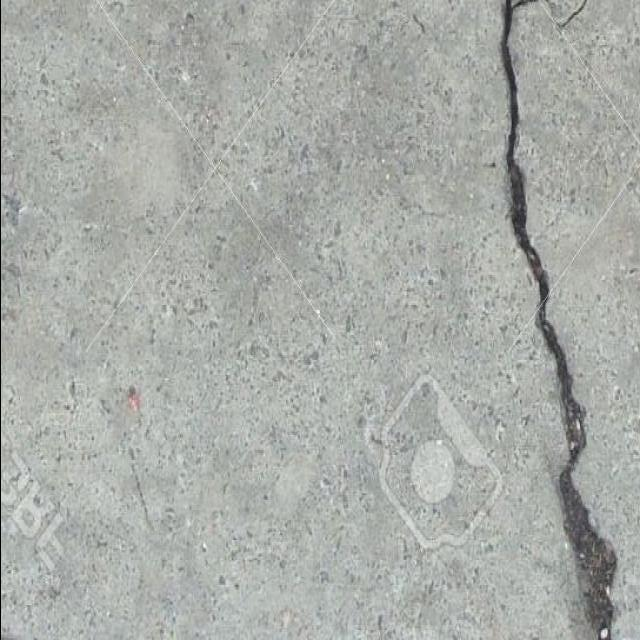Crack: (493, 0, 634, 639)
